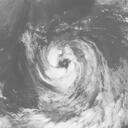cyclone: (23, 32, 106, 112)
